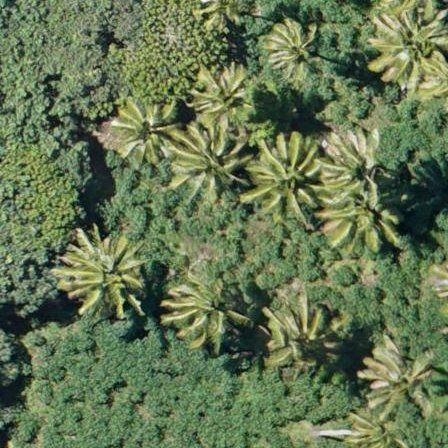palm_tree: (59, 231, 143, 310), (165, 275, 241, 343), (375, 7, 442, 83), (321, 128, 387, 200), (361, 344, 429, 411), (179, 122, 244, 191), (255, 140, 317, 207), (263, 306, 331, 367), (116, 100, 175, 161), (263, 22, 321, 83), (424, 247, 448, 327)
